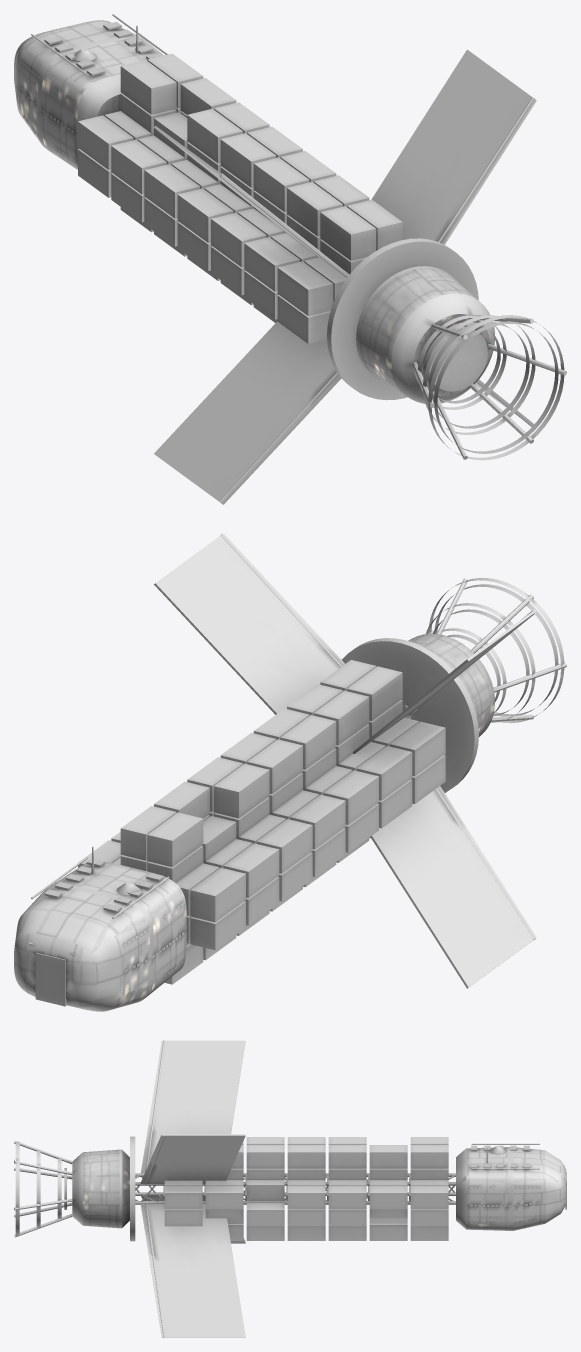
Rendered from ship-hakobune.glb.
3 renders of one model, top to bottom at view 1: azimuth 30°, elevation 25°; view 2: azimuth 150°, elevation 25°; view 3: azimuth 270°, elevation 25°, orthographic. The views are drawn at different scales.
Visible parts, largest first — view 1: Hull; view 2: Hull; view 3: Hull.
Boxes of the visible parts, x1,y1,x2,y2 form: Hull: [14, 14, 566, 504]; Hull: [14, 533, 566, 1011]; Hull: [14, 1040, 566, 1337].
Bounding box in the file's own units: 0.4277 × 0.4278 × 1.05.
13 materials, 1 textured.
